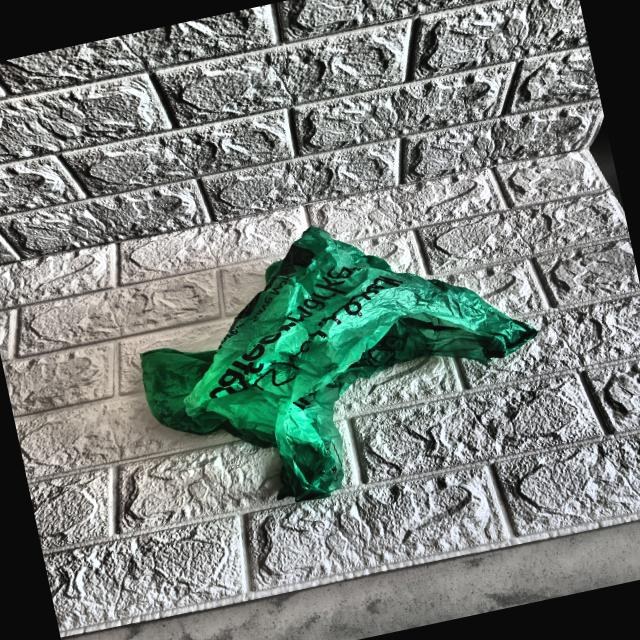plastic bag: (110, 191, 550, 523)
